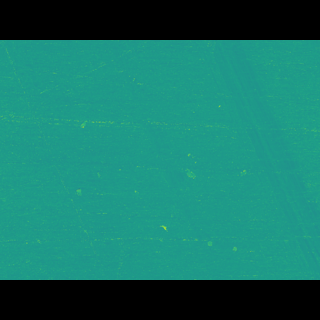Loch: (195, 69, 320, 249), (105, 68, 221, 233), (182, 162, 199, 175), (74, 179, 86, 188)
